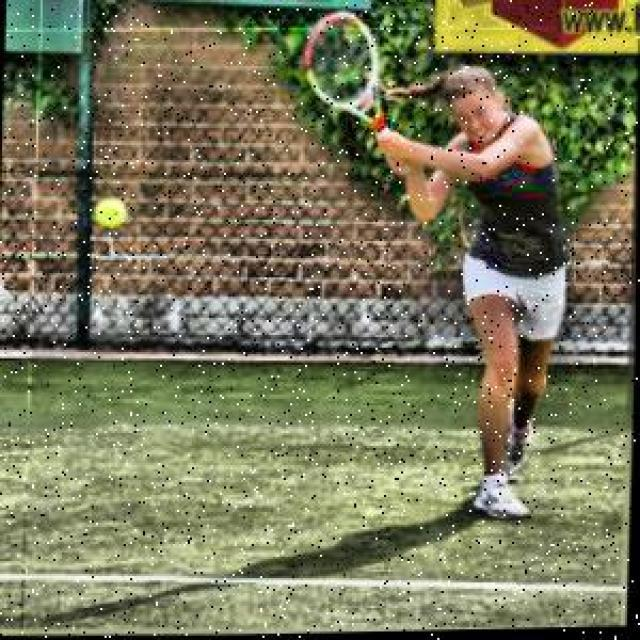tennis-ball: (96, 197, 126, 225)
